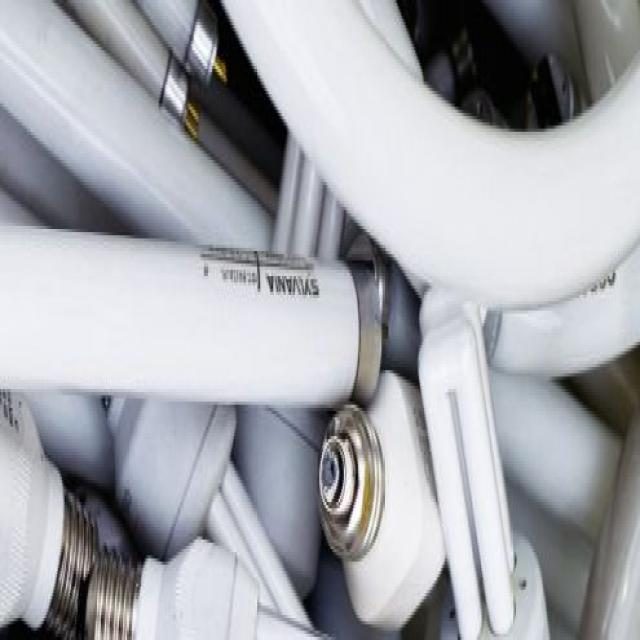electronic: (0, 0, 639, 637), (317, 367, 446, 631), (0, 382, 65, 634), (316, 398, 382, 558)
